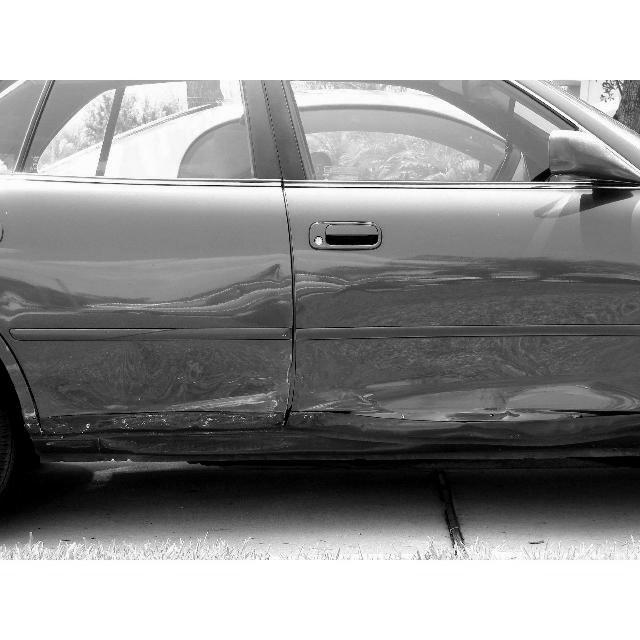Runningboard-Damage: (31, 399, 640, 471)
doorouter-dent: (295, 200, 640, 442)
